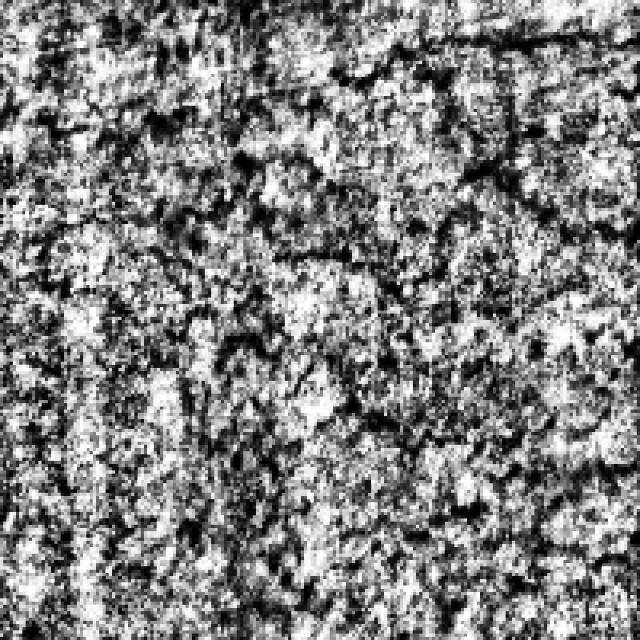Pitted_Surface: (124, 35, 596, 483)
